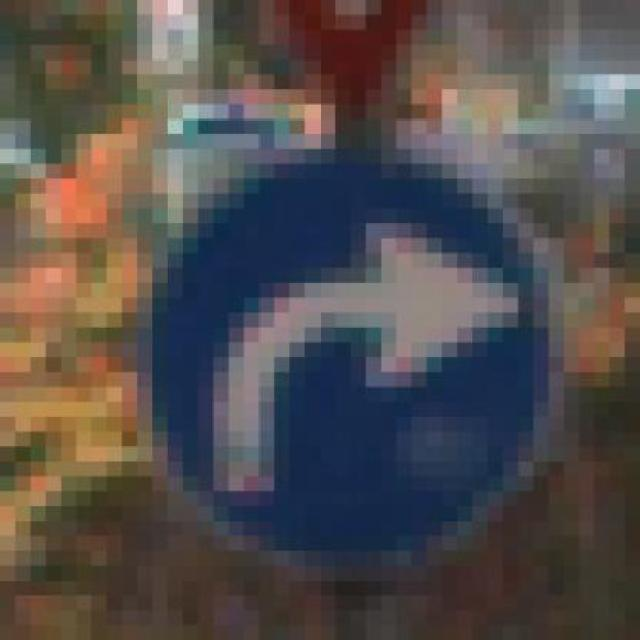Turn right ahead: (122, 134, 580, 595)
